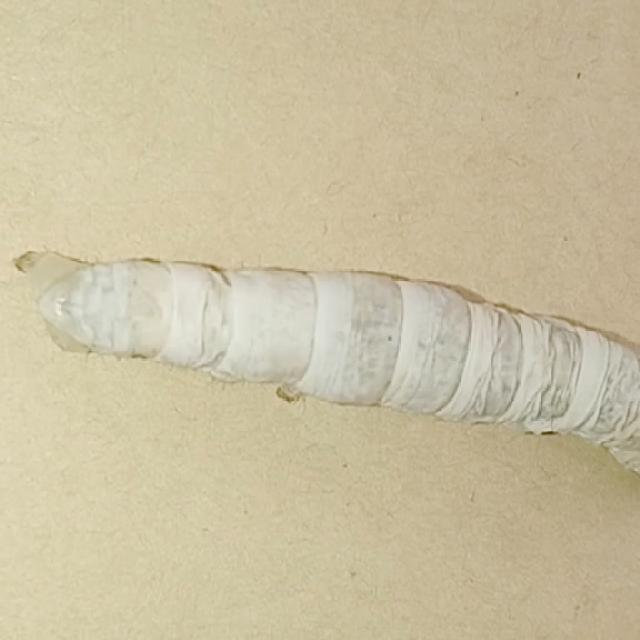Grasserie: (18, 193, 640, 522)
